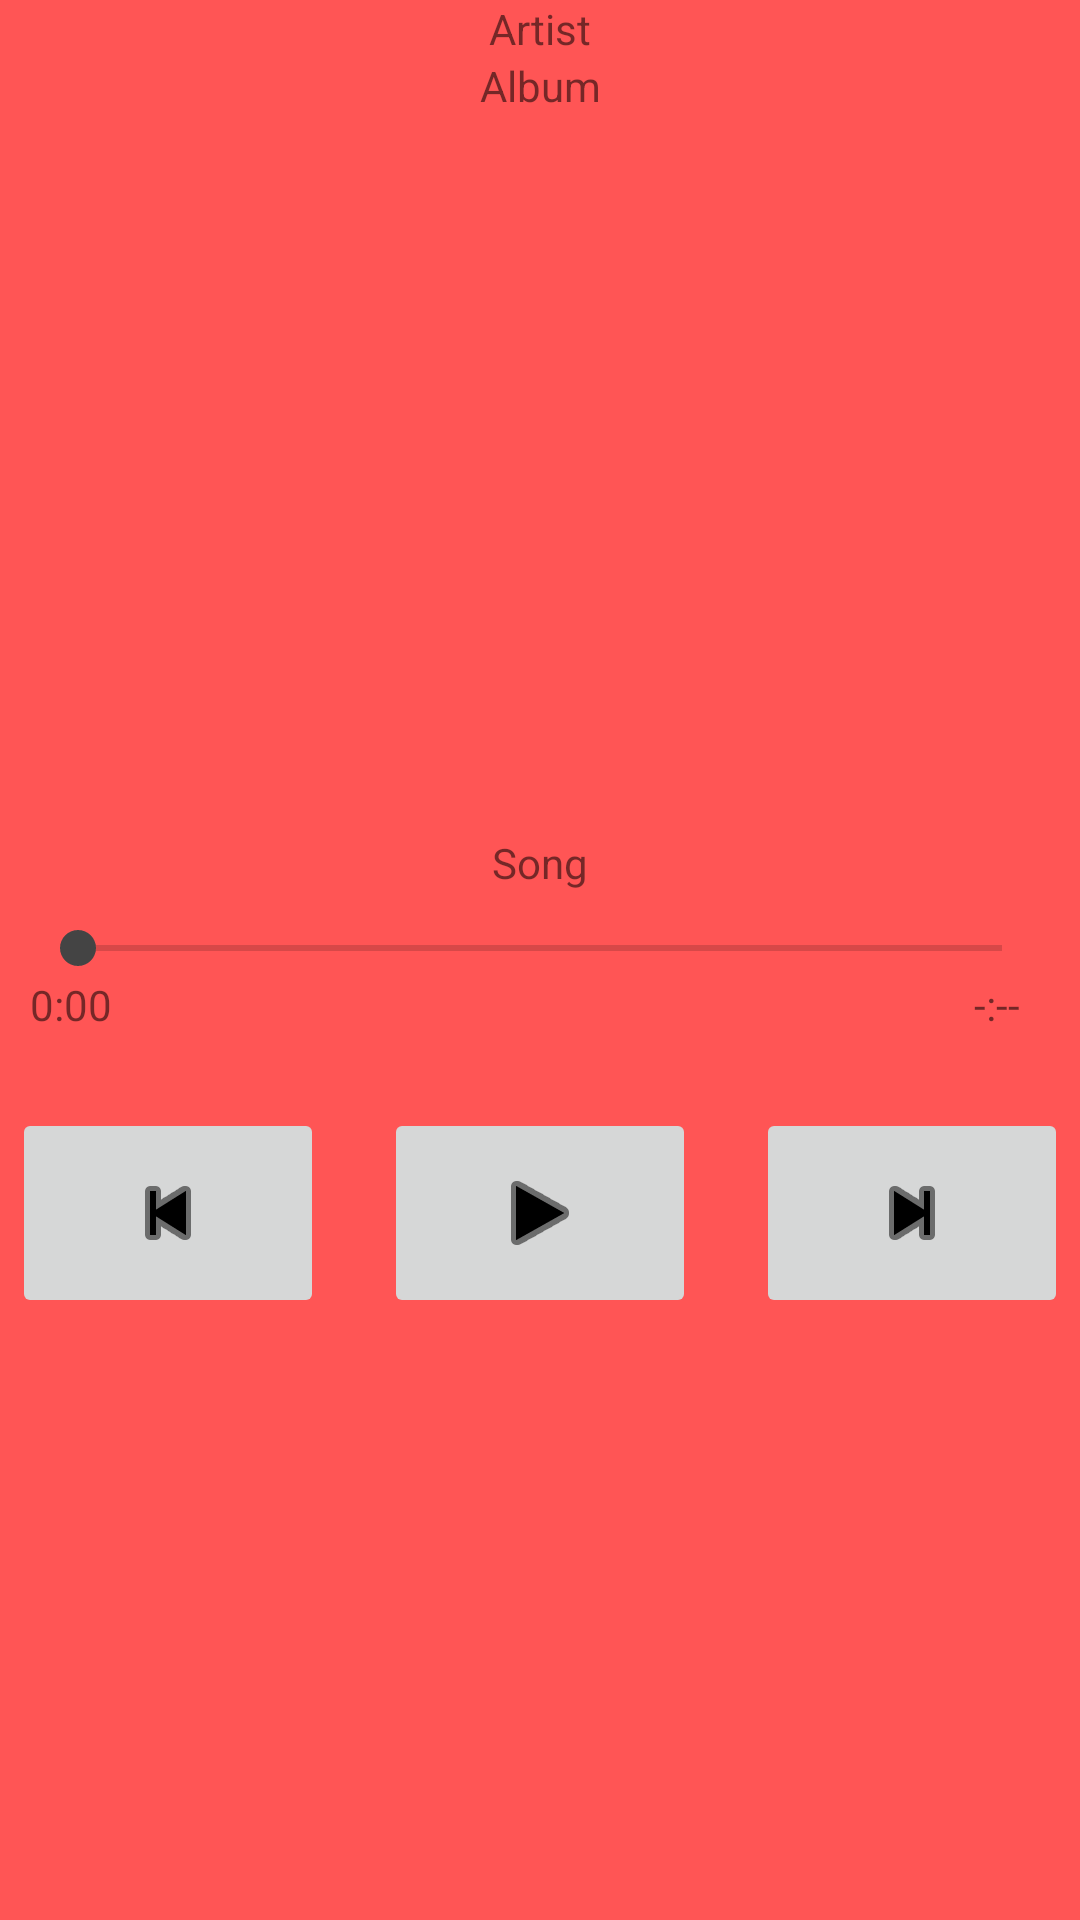

Where to tap for icons on this 1080px×1920px app screen, as point (x, y):
next: point (912, 1213)
play: point (540, 1213)
previous: point (168, 1213)
